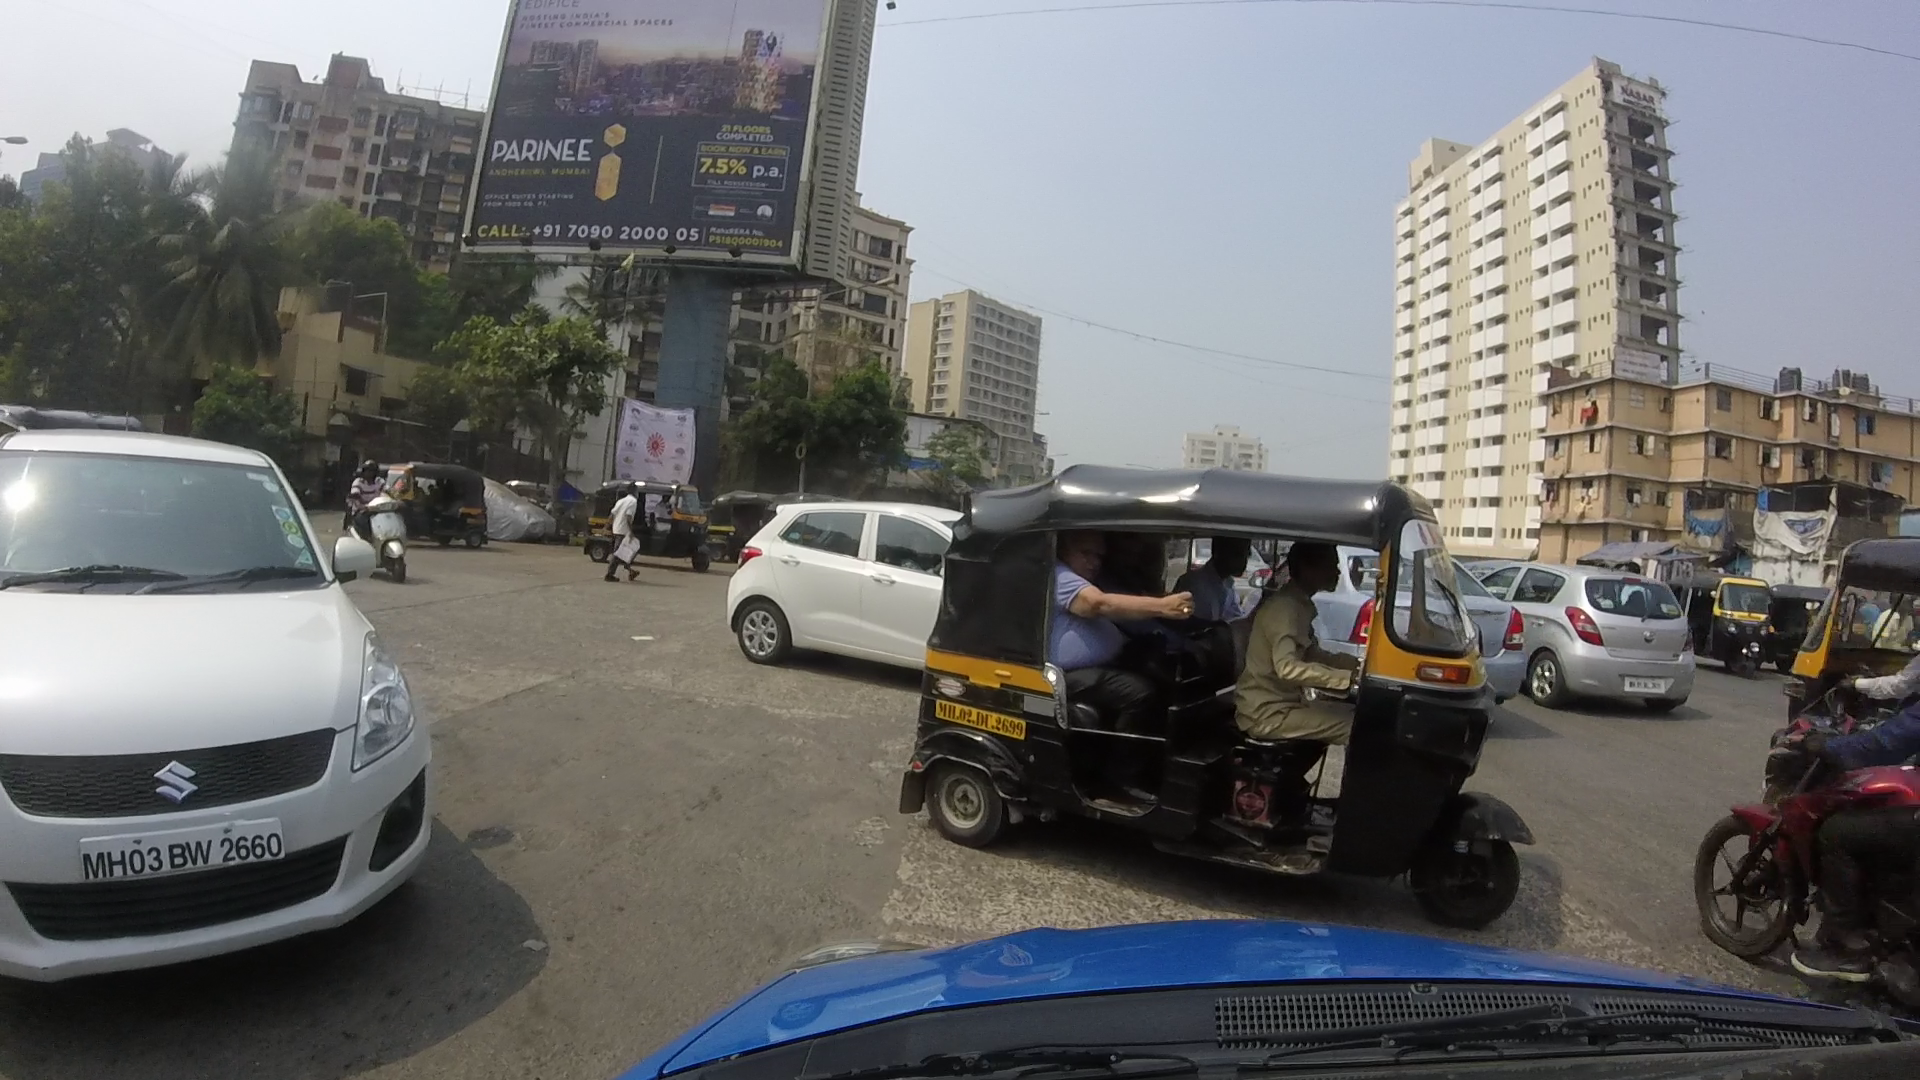car: (8, 427, 446, 972), (731, 495, 955, 674), (1461, 551, 1705, 713)
rickshaw: (913, 463, 1524, 934), (1749, 530, 1920, 793), (1691, 566, 1772, 673)
